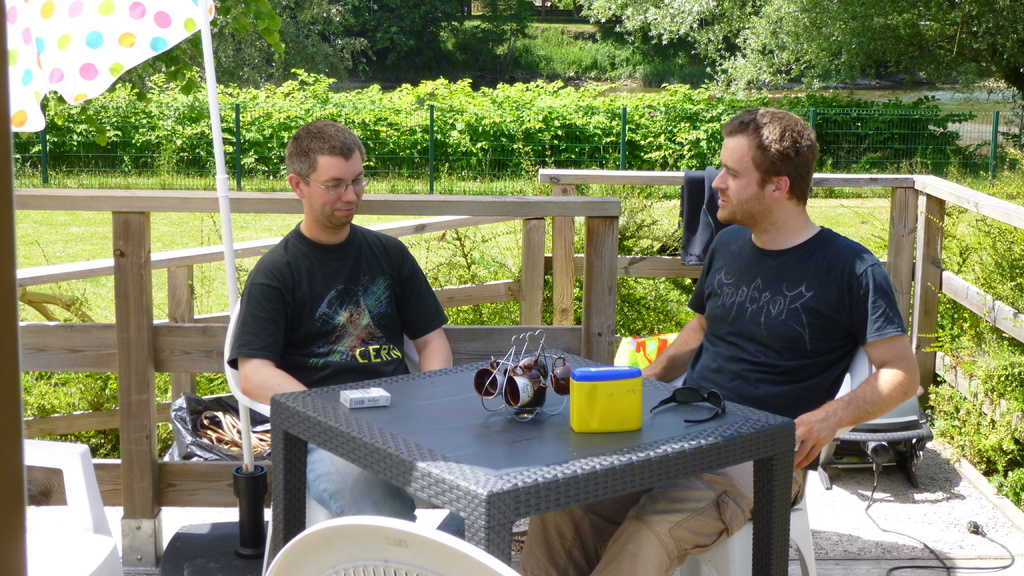Table: (241, 340, 804, 561)
